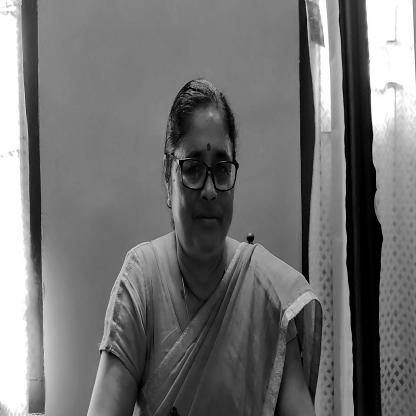Normal: (154, 81, 249, 254)
